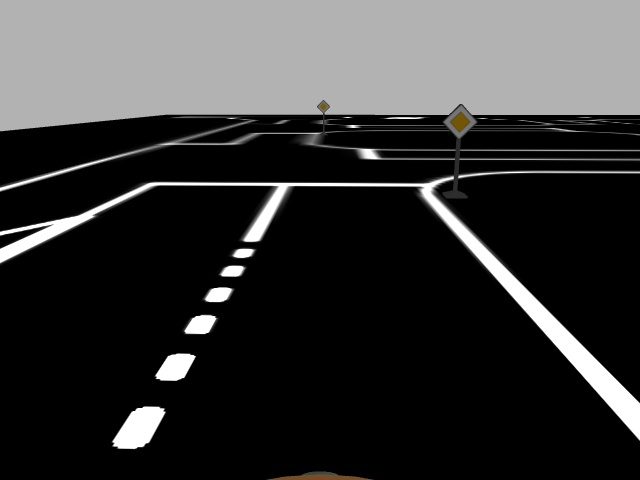priority: (441, 103, 479, 140)
